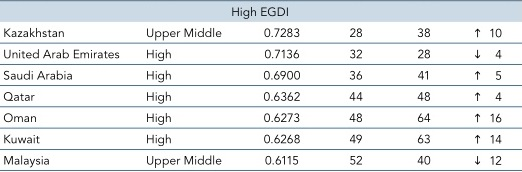column: (4, 2, 120, 172), (146, 2, 222, 172), (232, 1, 300, 172), (418, 1, 432, 172), (490, 1, 503, 172), (349, 2, 362, 172), (475, 1, 482, 172)
row: (1, 27, 522, 40), (1, 7, 522, 19), (1, 49, 522, 60), (1, 70, 522, 80), (1, 92, 522, 102), (1, 113, 522, 123), (1, 156, 522, 166), (1, 135, 522, 144)
